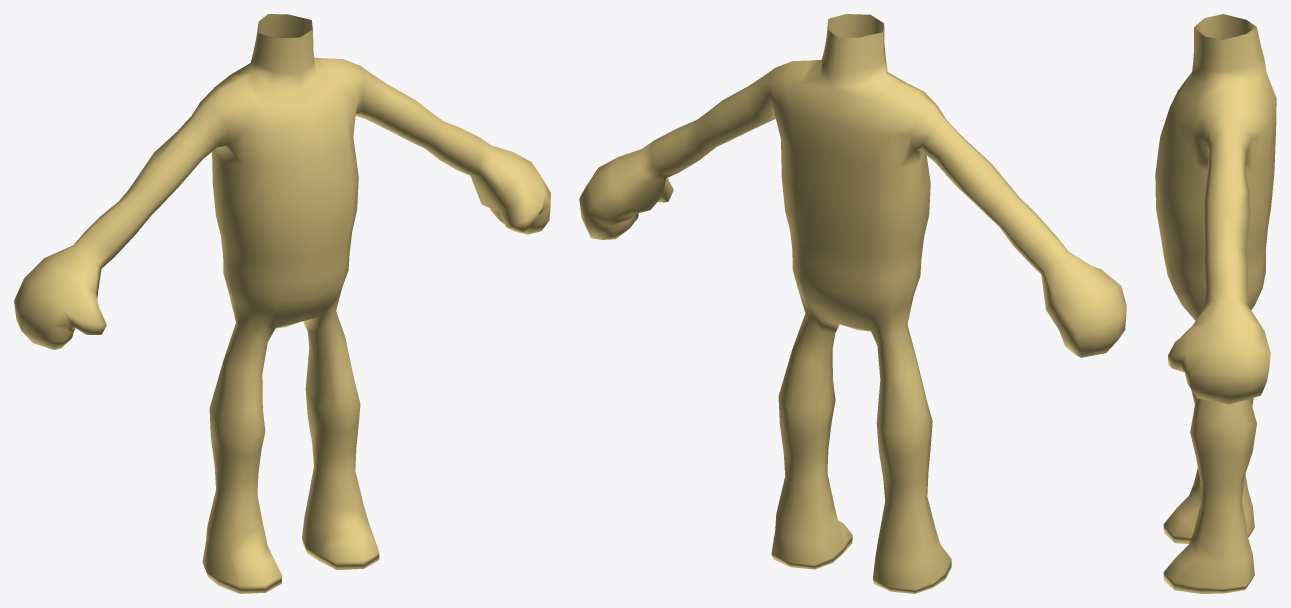
Rendered from default silm naked.fbx.
3 views of the same model, side by side, from view 1: azimuth 30°, elevation 25°; view 2: azimuth 150°, elevation 25°; view 3: azimuth 270°, elevation 25° (orthographic). The views are drawn at different scales.
Visible parts, largest first — view 1: Body_Slim; view 2: Body_Slim; view 3: Body_Slim.
Part boxes in pixels (x1,y1,x2,y2): Body_Slim: (14,14,550,593); Body_Slim: (579,14,1126,593); Body_Slim: (1155,14,1276,593).
Bounding box in the file's own units: 107 × 104 × 21.51.
